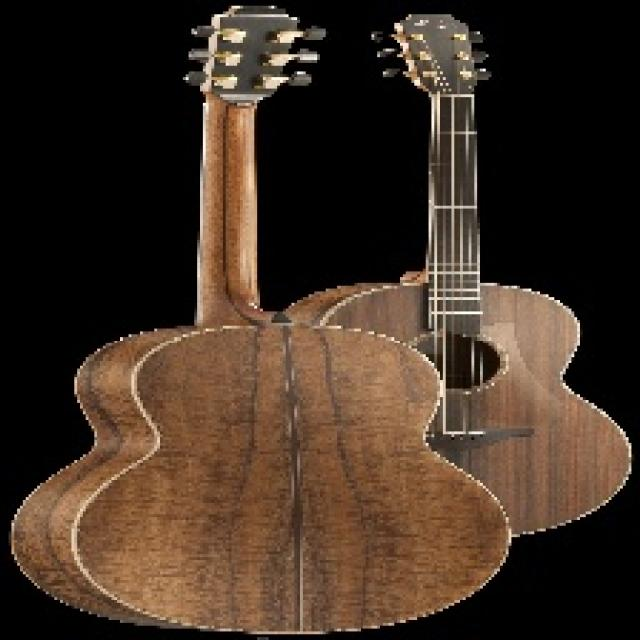guitar: (10, 4, 511, 634), (300, 12, 633, 538)
